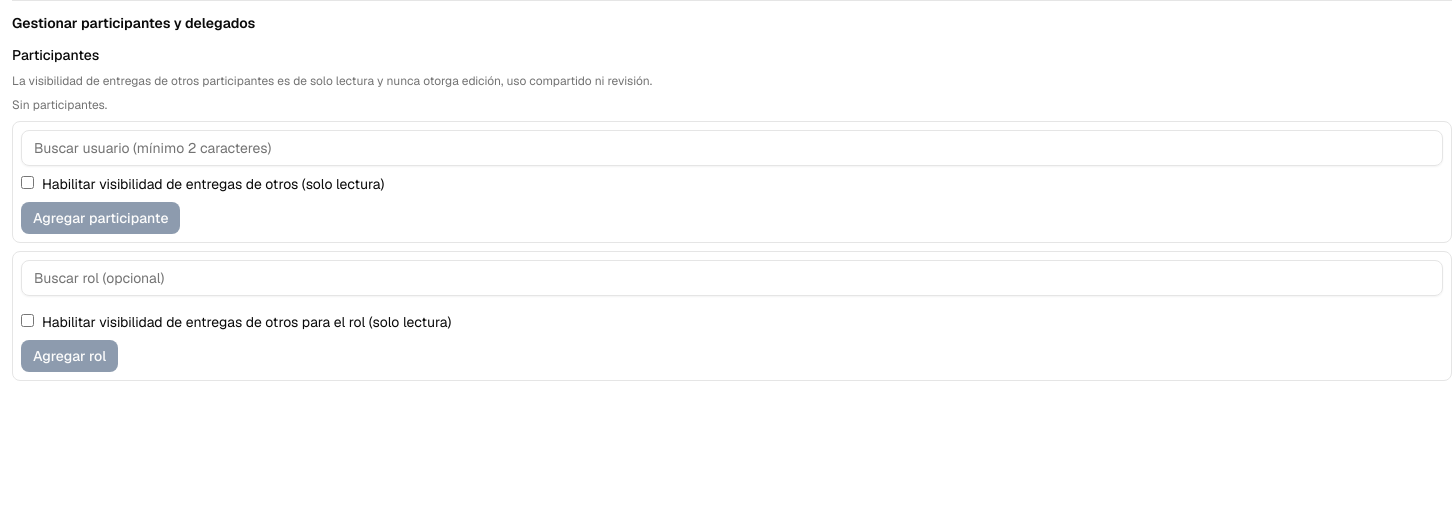
Scenario: does not trust a participant response for another directory
In the field named "Buscar usuario para participante": (732, 148) [21,130,1443,166], type "an"
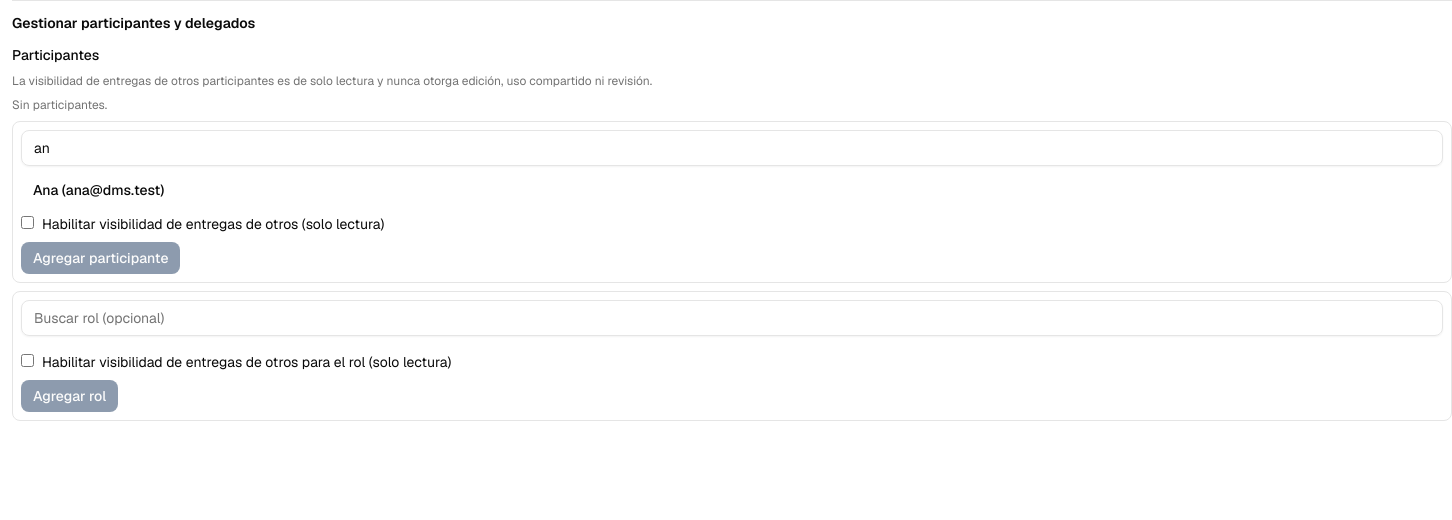
Click the button "Ana (ana@dms.test)": (99, 190) [21,174,176,206]
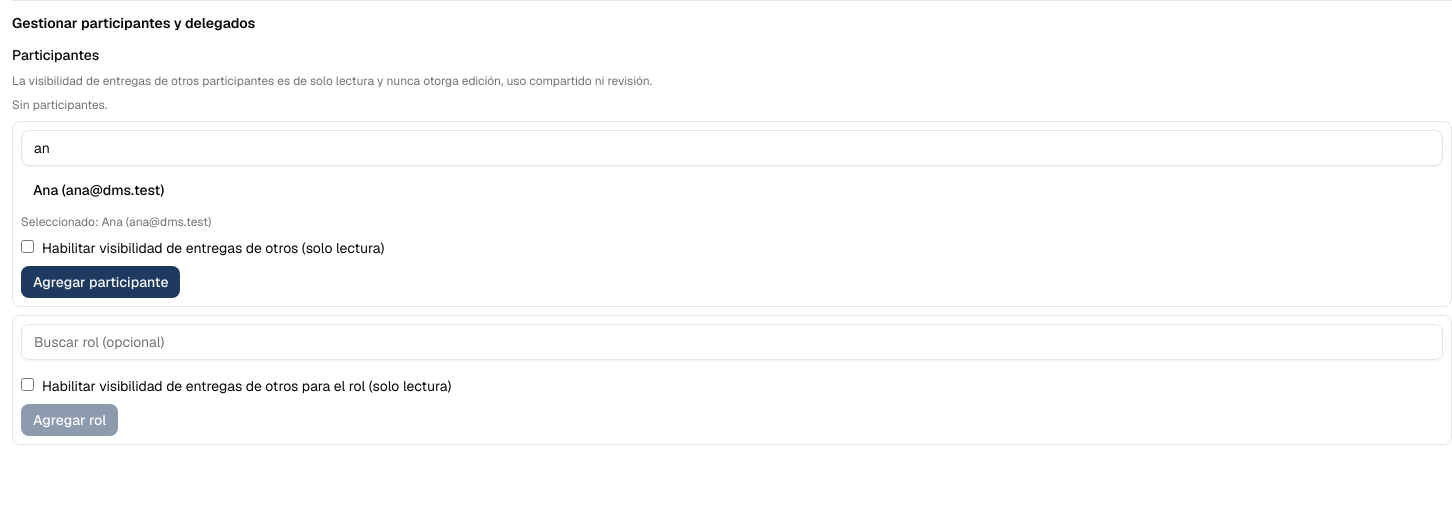
Click the button "Agregar participante": (101, 282) [21,266,180,298]
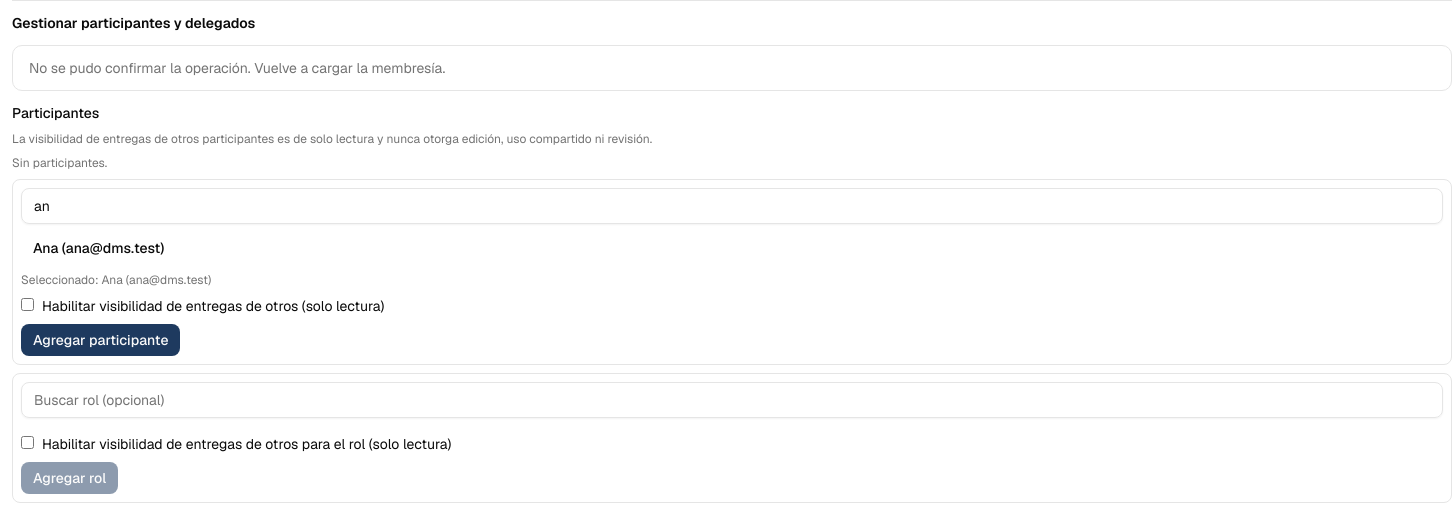
Expected: the text "No se pudo confirmar la operación" is shown, [29,59,445,77]
